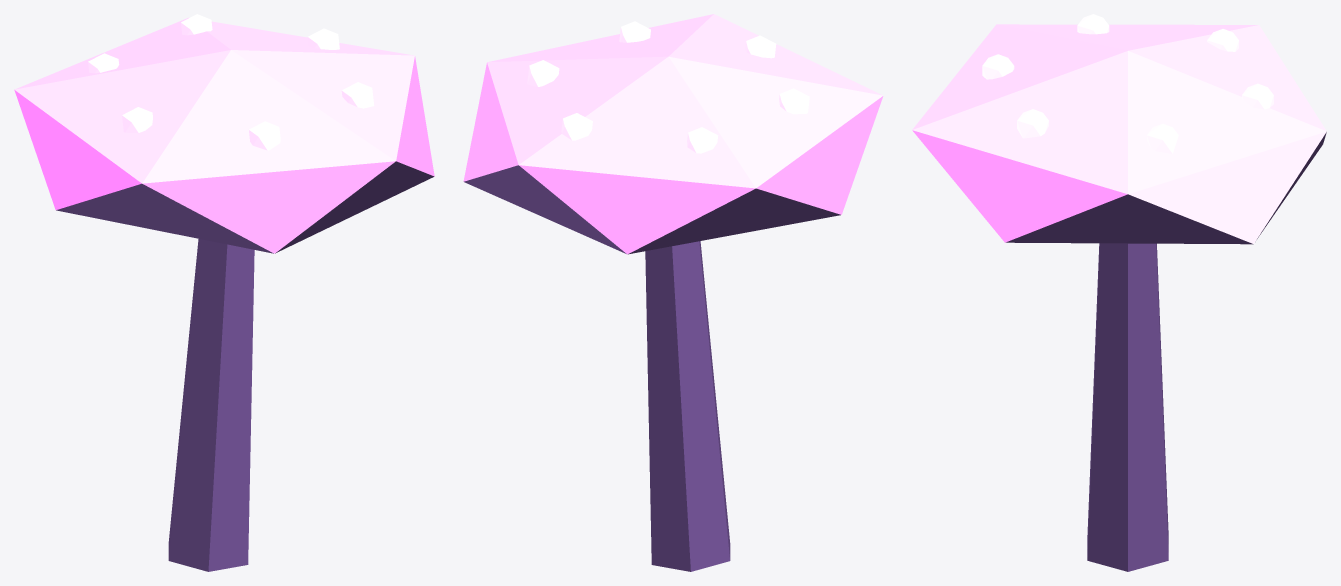
File: Alien_Mushroom_Giant.glb
3 renders of one model, left to right at view 1: azimuth 30°, elevation 25°; view 2: azimuth 150°, elevation 25°; view 3: azimuth 270°, elevation 25°, orthographic. The views are drawn at different scales.
Parts seen in each view (by area): view 1: Alien_Mushroom_Giant; view 2: Alien_Mushroom_Giant; view 3: Alien_Mushroom_Giant.
Part boxes in pixels (bbox=[...]): Alien_Mushroom_Giant: bbox=[14, 14, 434, 571]; Alien_Mushroom_Giant: bbox=[463, 14, 883, 571]; Alien_Mushroom_Giant: bbox=[912, 14, 1326, 571].
Bounding box in the file's own units: 3.16 × 4.21 × 3.09.
1 material, 1 textured.
